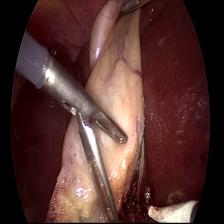Grasper: (41, 46, 130, 224)
Hook: (142, 190, 200, 224)
